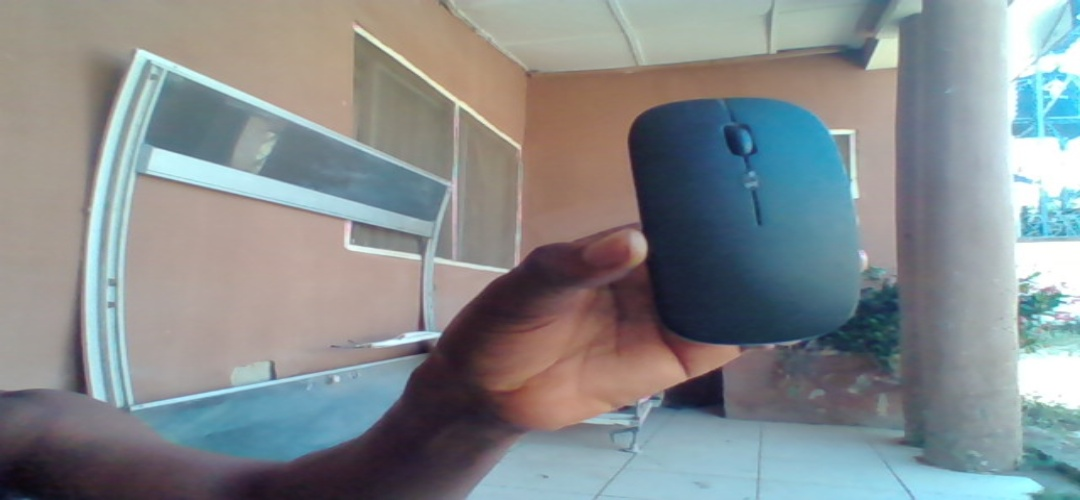wireless_mouse: (630, 95, 863, 349)
